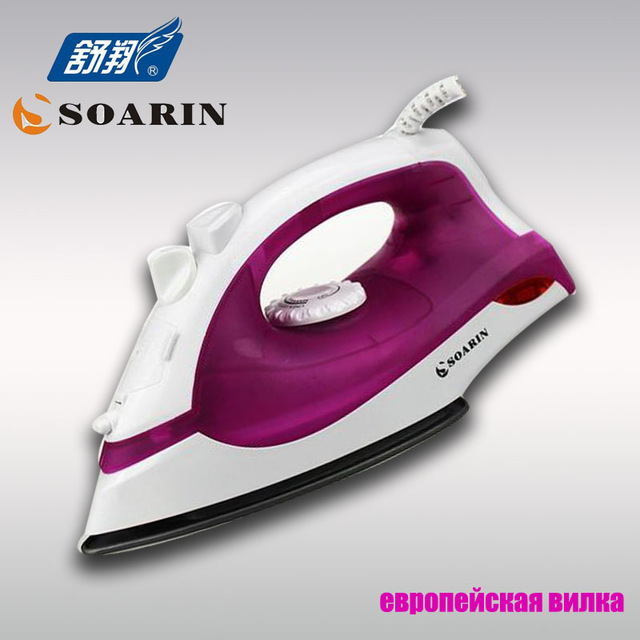iron: (74, 118, 578, 564)
